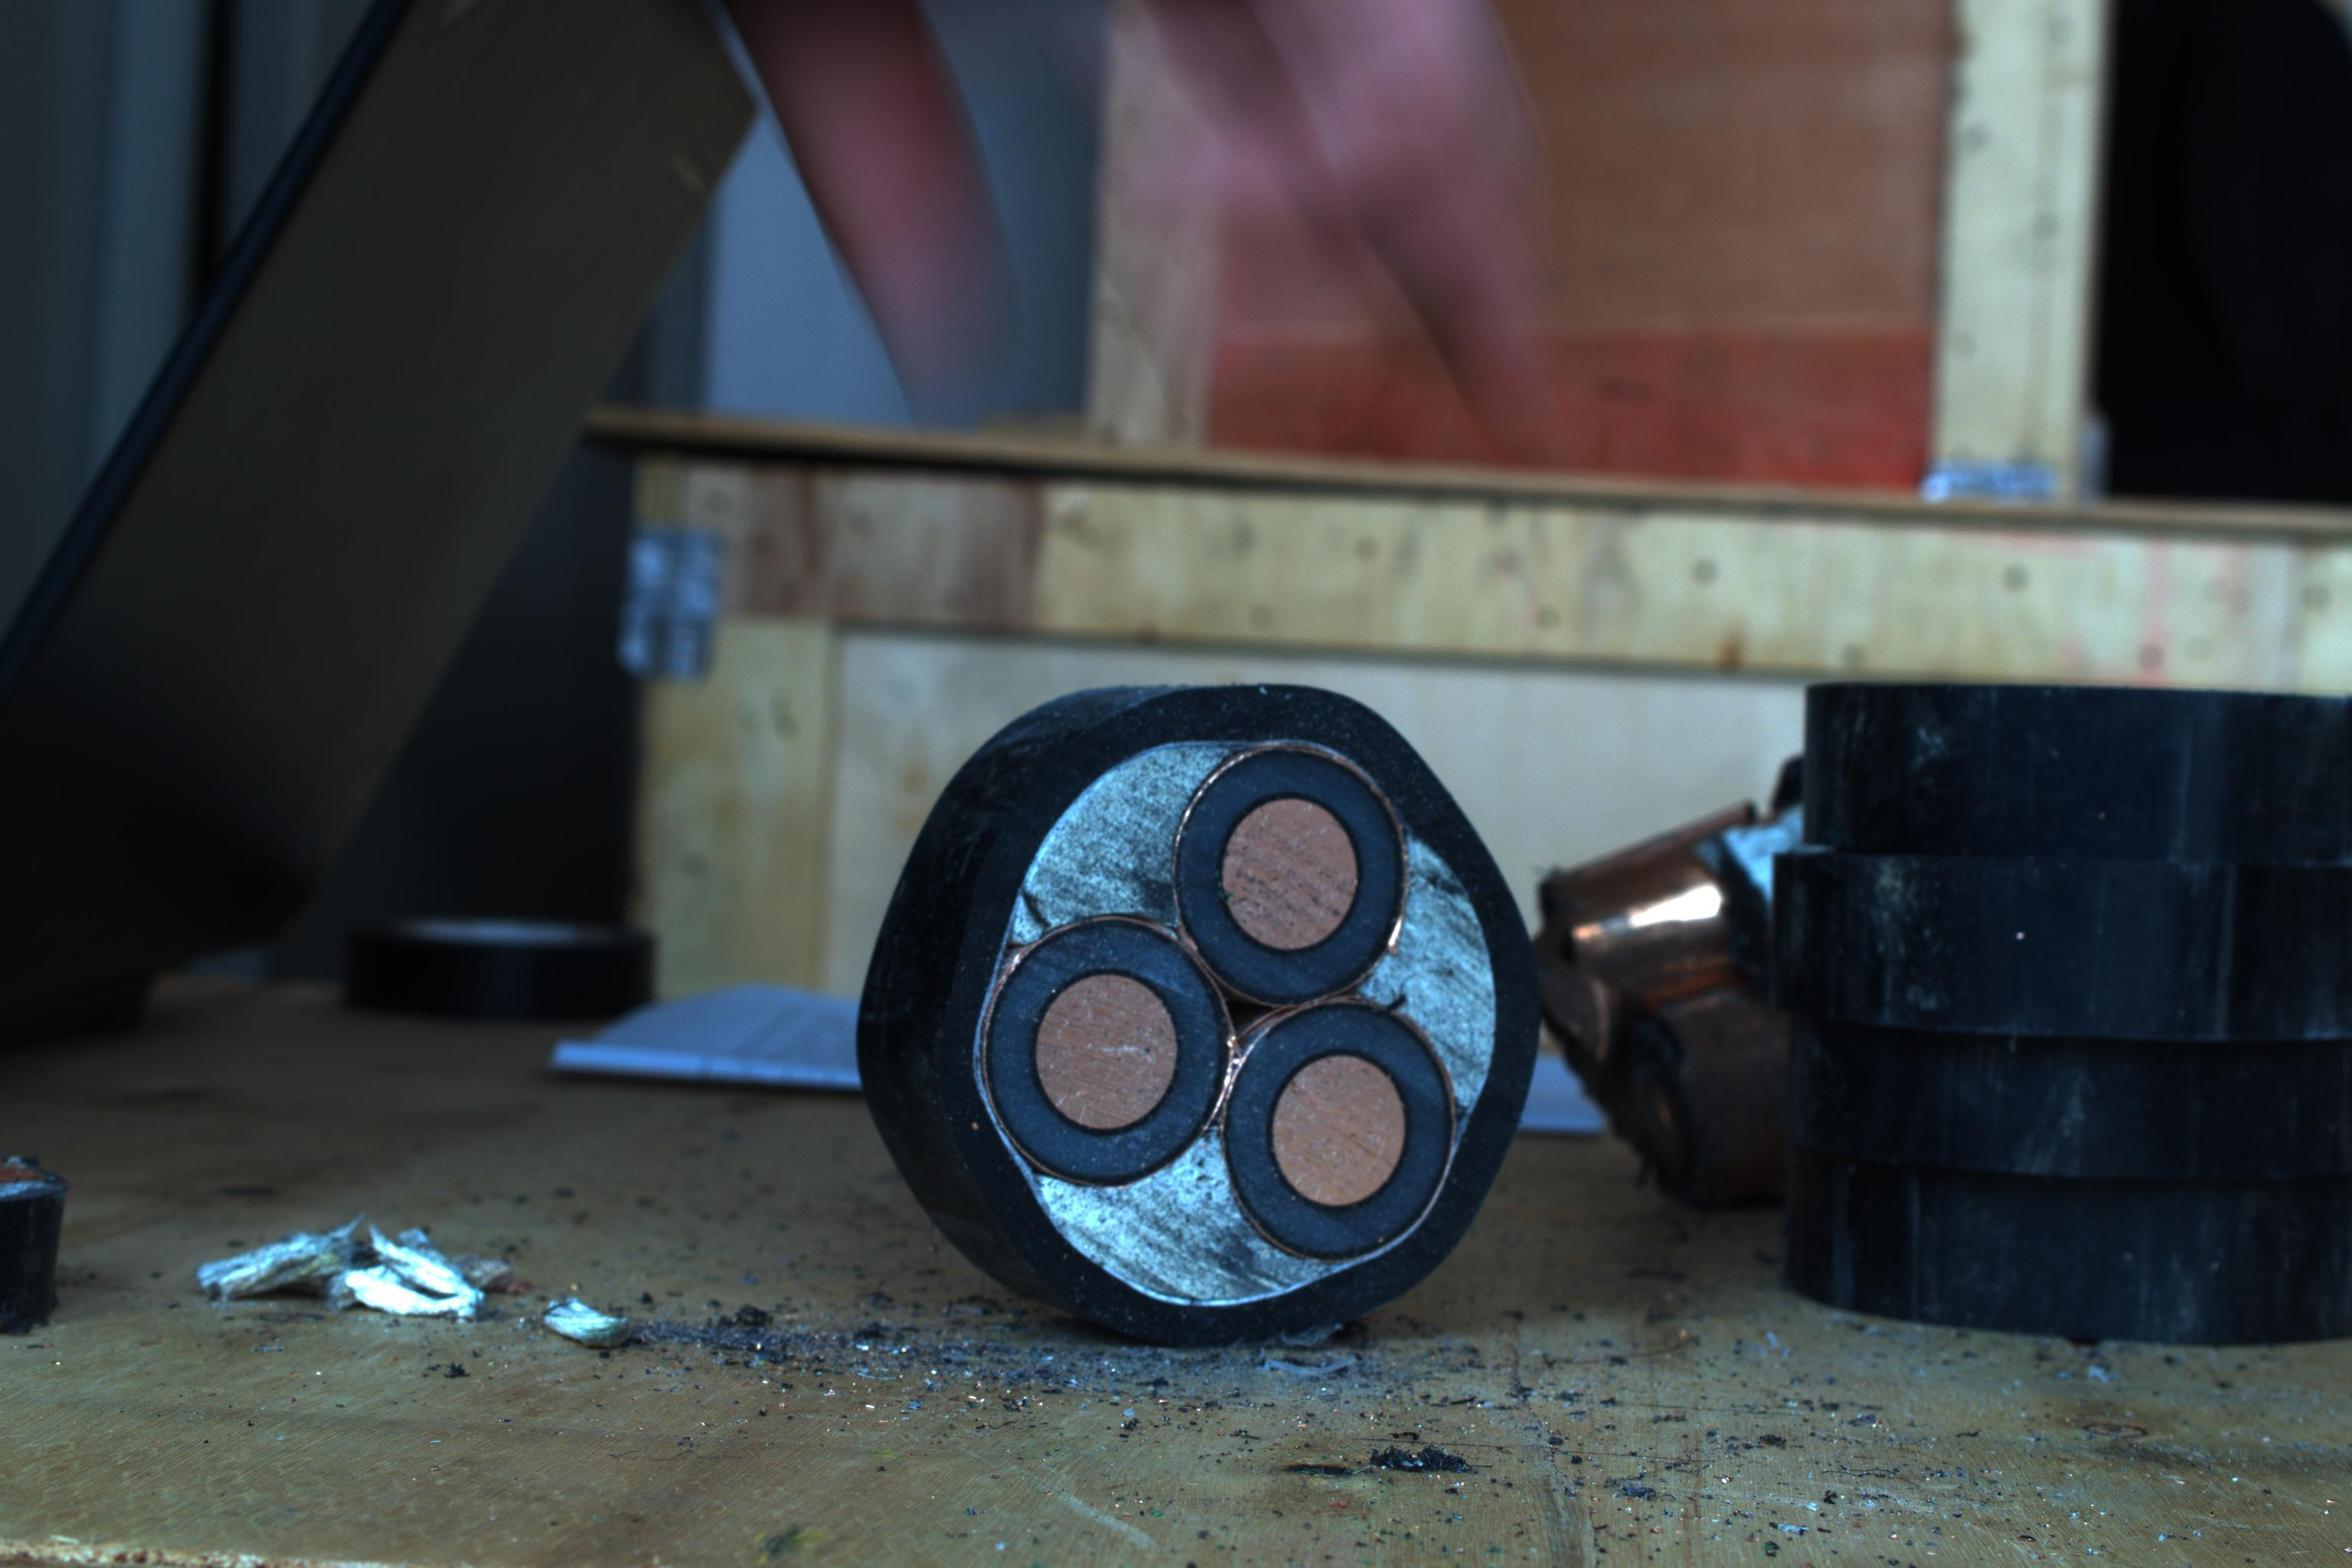ZA_YJV_8.7_10kV_3x240: (948, 693, 1538, 1326)
